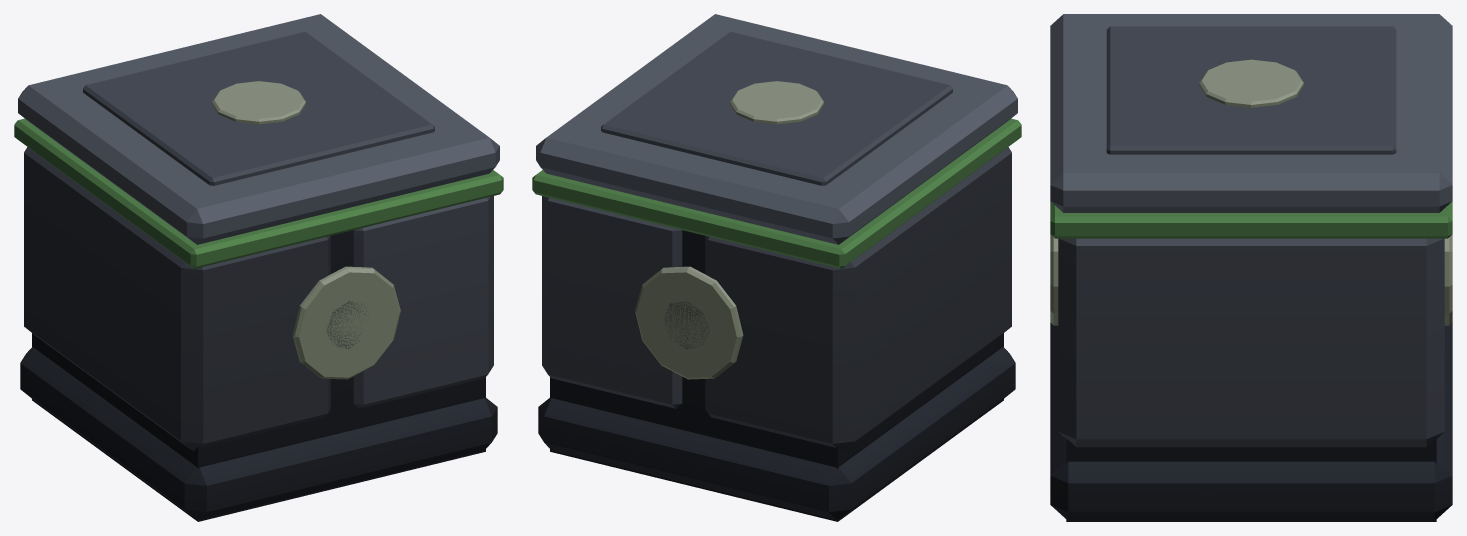
Rendered from rune-wall.glb.
The picture shows the model from 3 angles, left to right: view 1: azimuth 30°, elevation 25°; view 2: azimuth 150°, elevation 25°; view 3: azimuth 270°, elevation 25°; orthographic projection. The views are drawn at different scales.
Parts seen in each view (by area): view 1: mesh_rune_wall; view 2: mesh_rune_wall; view 3: mesh_rune_wall.
Part boxes in pixels (<box>): mesh_rune_wall: <box>14,14,503,521</box>; mesh_rune_wall: <box>532,14,1021,521</box>; mesh_rune_wall: <box>1050,14,1452,521</box>.
Size of the model in its own units: 1 by 0.995 by 1.
